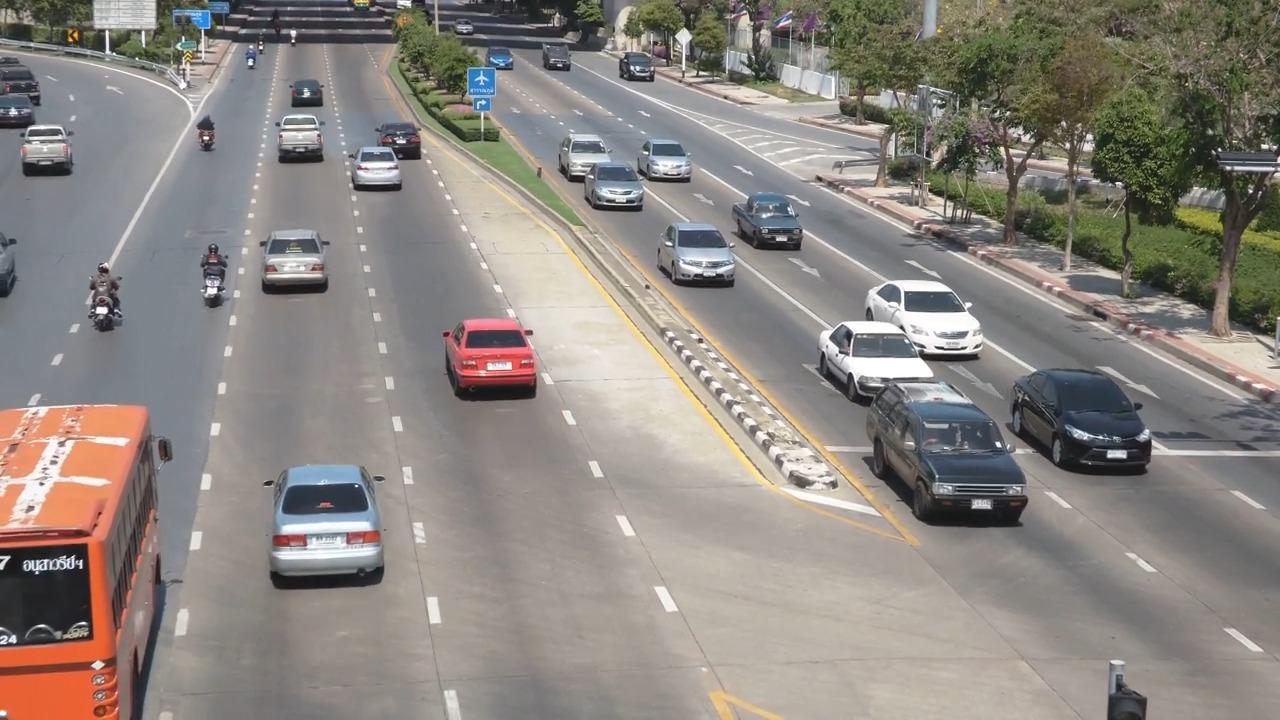CAR: (244, 447, 414, 607), (864, 382, 1041, 530), (993, 361, 1163, 492), (430, 301, 552, 422), (807, 316, 945, 407), (865, 267, 994, 358), (250, 222, 345, 316), (724, 182, 819, 260), (651, 217, 739, 288), (14, 116, 82, 194), (265, 112, 332, 182), (551, 122, 620, 182), (629, 133, 698, 192), (578, 157, 644, 218), (349, 143, 414, 202), (0, 56, 55, 113), (368, 107, 425, 159), (608, 51, 660, 93), (282, 75, 334, 114), (525, 37, 574, 77)
HGV_BUS: (0, 400, 180, 720)
MOTOR: (65, 252, 135, 369), (168, 235, 235, 329), (179, 111, 226, 162)
